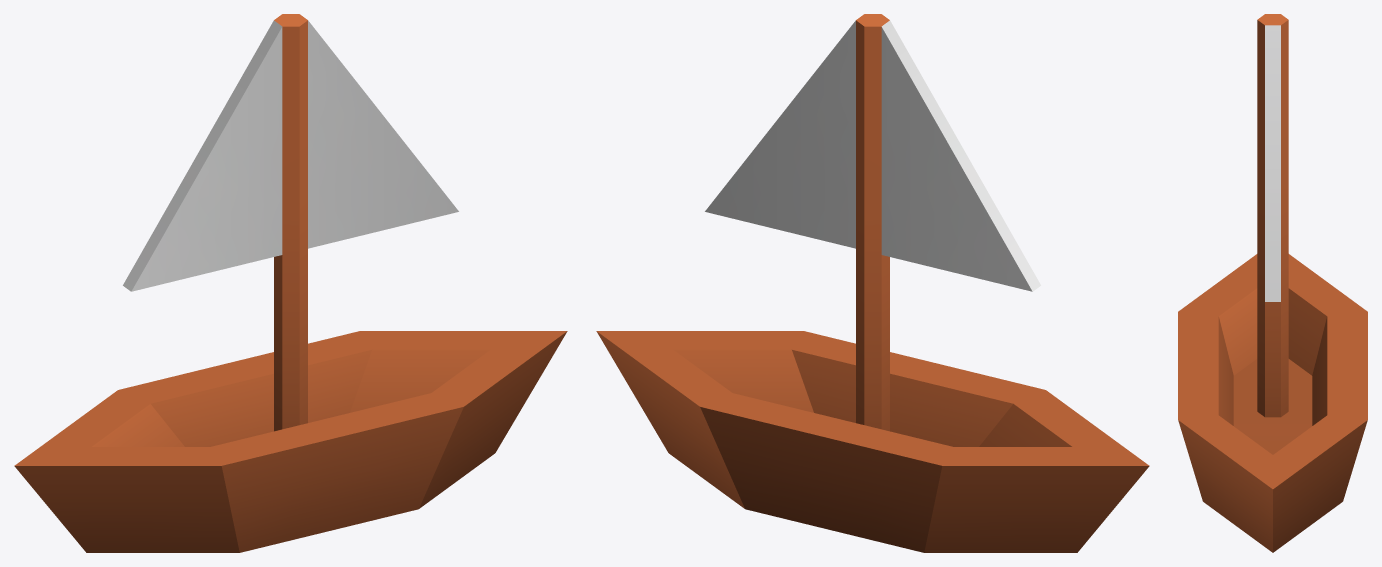
File: barco.fbx
3 views of the same model, side by side, from view 1: azimuth 30°, elevation 25°; view 2: azimuth 150°, elevation 25°; view 3: azimuth 270°, elevation 25° (orthographic). The views are drawn at different scales.
Visible parts, largest first — view 1: barco; view 2: barco; view 3: barco.
Part boxes in pixels (bbox=[...]): barco: bbox=[14, 14, 567, 552]; barco: bbox=[596, 14, 1149, 552]; barco: bbox=[1178, 14, 1367, 552].
Bounding box in the file's own units: 74.67 × 62.24 × 24.22.
